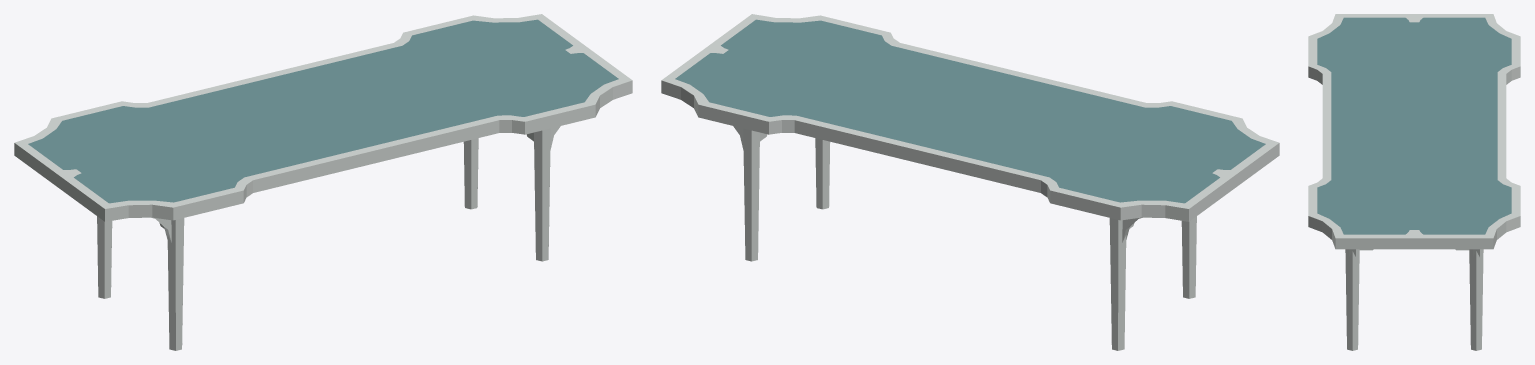
The picture shows the model from 3 angles, left to right: view 1: azimuth 30°, elevation 25°; view 2: azimuth 150°, elevation 25°; view 3: azimuth 270°, elevation 25°; orthographic projection. The views are drawn at different scales.
Visible parts, largest first — view 1: G:\FFXIV-MapTools\exports\s1f3\bg\ffxiv\sea_s1\fld\s1f3\bgpa (×2); view 2: G:\FFXIV-MapTools\exports\s1f3\bg\ffxiv\sea_s1\fld\s1f3\bgpa (×2); view 3: G:\FFXIV-MapTools\exports\s1f3\bg\ffxiv\sea_s1\fld\s1f3\bgpa (×2).
Part boxes in pixels (x1=…): G:\FFXIV-MapTools\exports\s1f3\bg\ffxiv\sea_s1\fld\s1f3\bgpa (×2): x1=14, y1=14, x2=632, y2=350; G:\FFXIV-MapTools\exports\s1f3\bg\ffxiv\sea_s1\fld\s1f3\bgpa (×2): x1=661, y1=14, x2=1279, y2=350; G:\FFXIV-MapTools\exports\s1f3\bg\ffxiv\sea_s1\fld\s1f3\bgpa (×2): x1=1308, y1=14, x2=1520, y2=350.
Bounding box in the file's own units: 3 × 0.8999 × 1.2.
